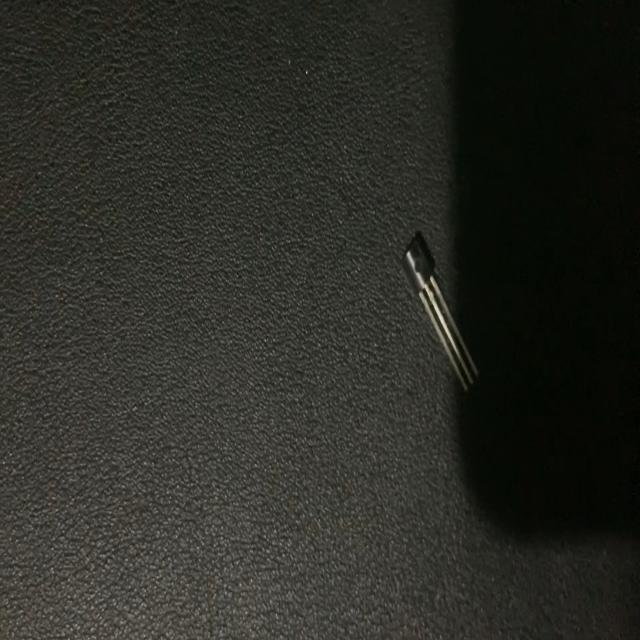BJT: (399, 221, 481, 403)
